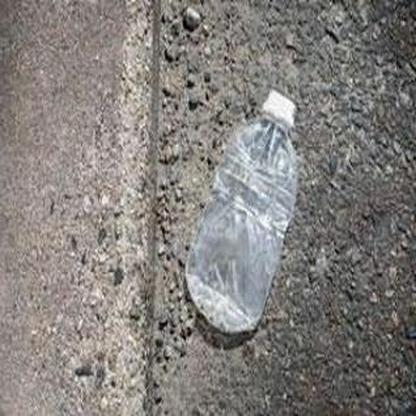plastic bottle: (185, 87, 299, 335)
